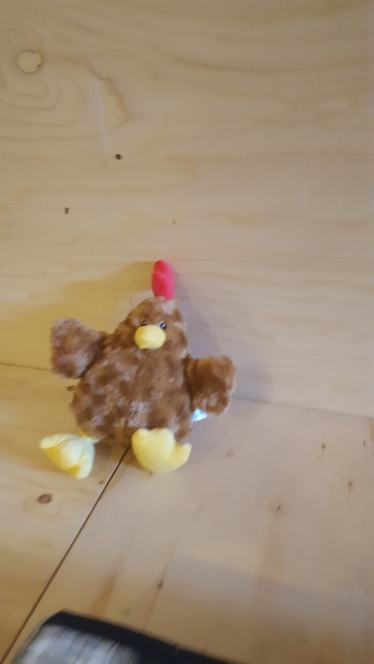chicken_front: (40, 260, 235, 479)
